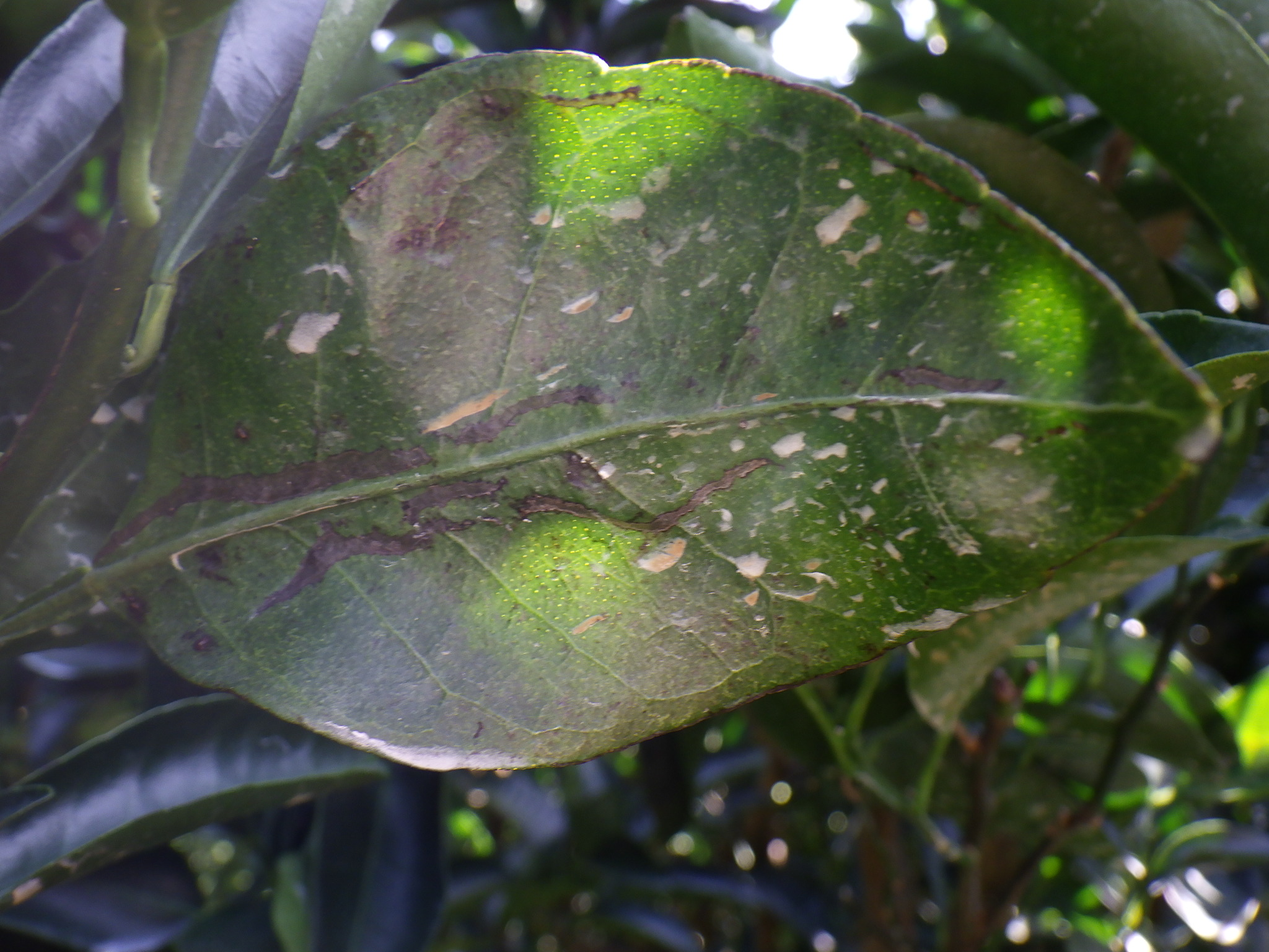Thrips_Damage: (101, 365, 1004, 614)
